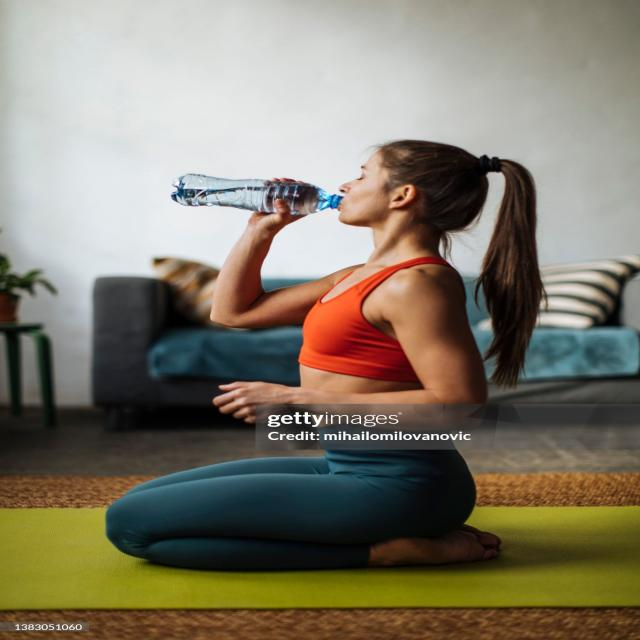bottle: (169, 169, 346, 219)
